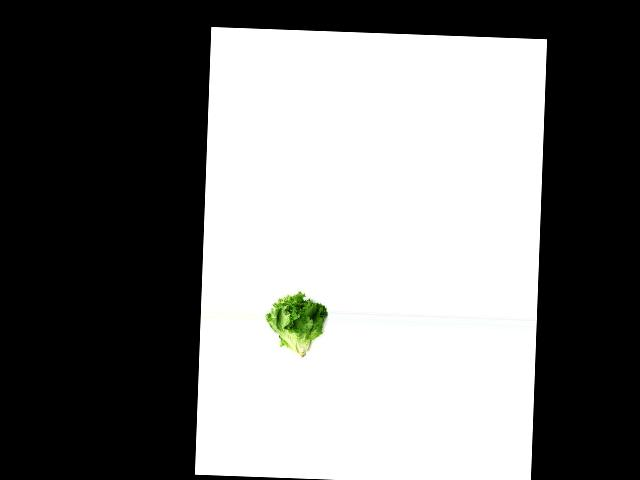lettuce: (262, 292, 329, 358)
